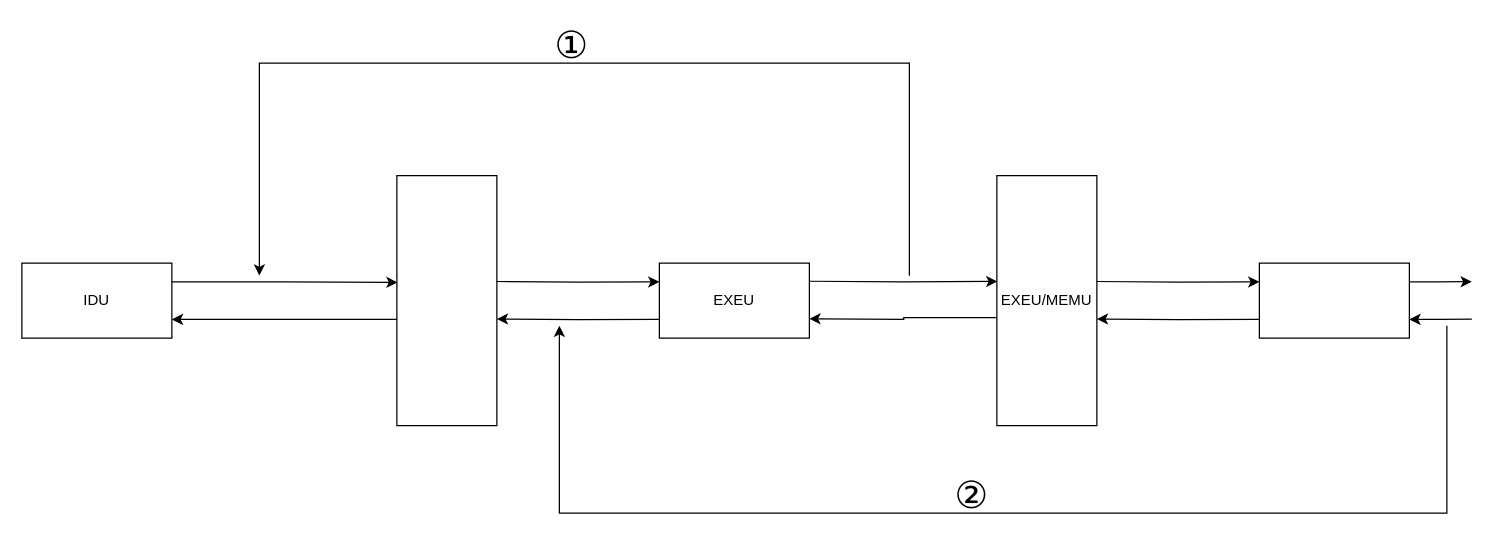
The diagram is 1504 pixels wide and 545 high, and some of its shapes have lost their labels. Each missing label, with the centre of its shape:
"IDU/EXEU" belongs at [446,300].
"MEMU" belongs at [1333,300].
